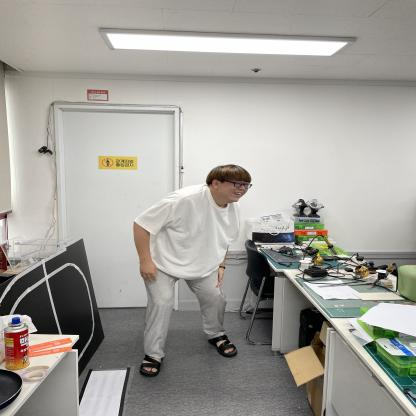normal: (130, 161, 256, 373)
